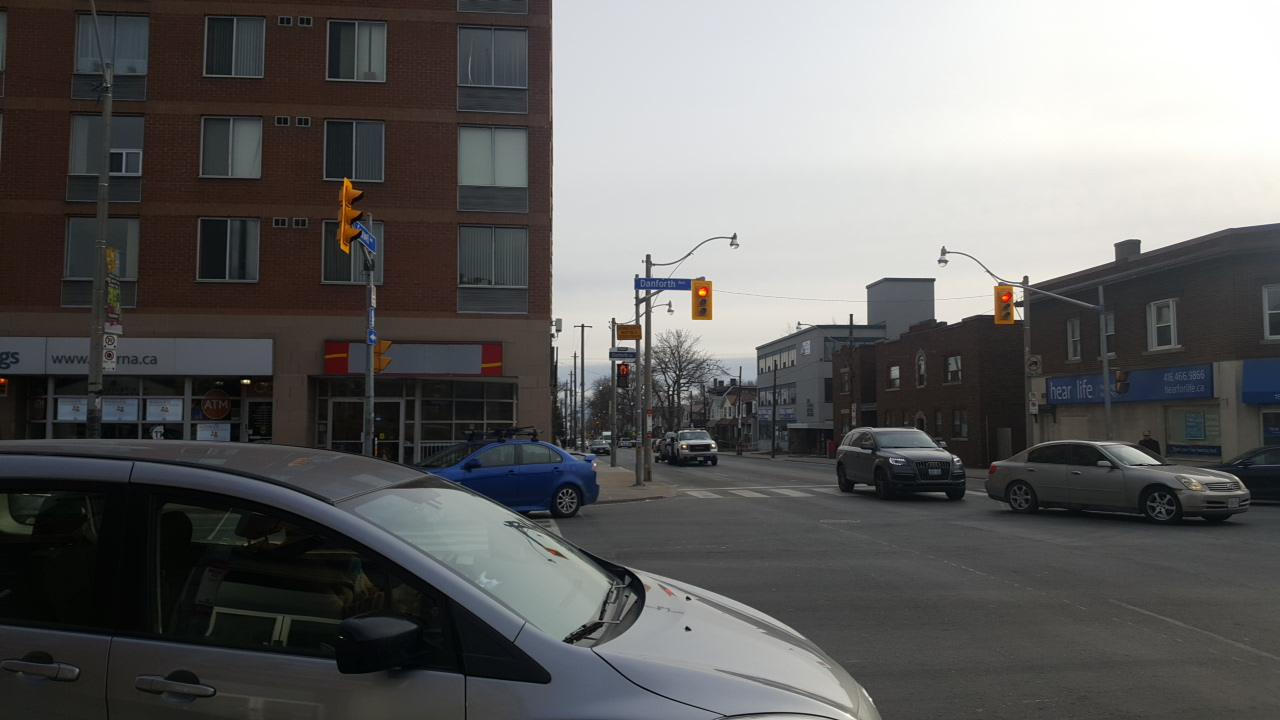light: (615, 361, 630, 390)
